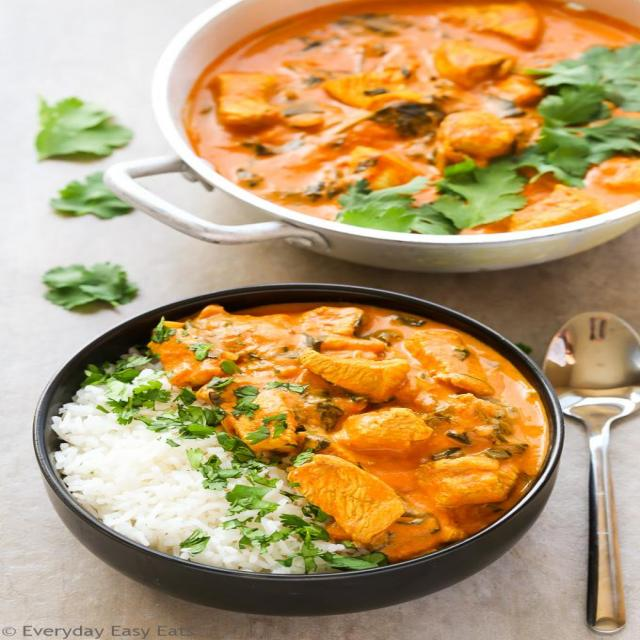chicken: (204, 7, 640, 252), (202, 277, 550, 528)
rice: (47, 385, 275, 571)
